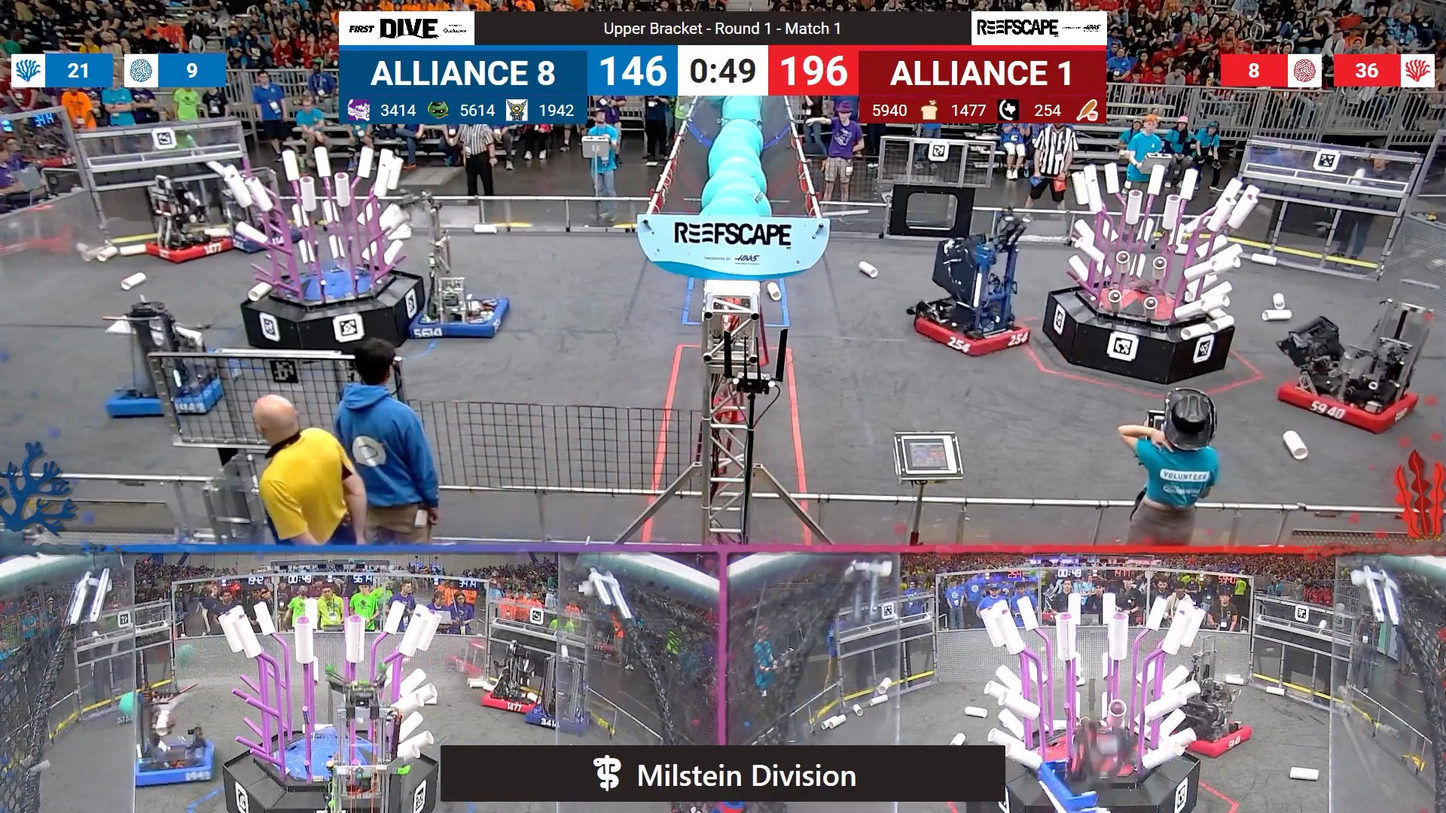bumpers: (1268, 364, 1423, 436), (102, 366, 239, 425), (909, 304, 1038, 358), (399, 286, 513, 347), (126, 732, 226, 797), (139, 228, 242, 269), (1174, 715, 1259, 761), (474, 686, 550, 718)
